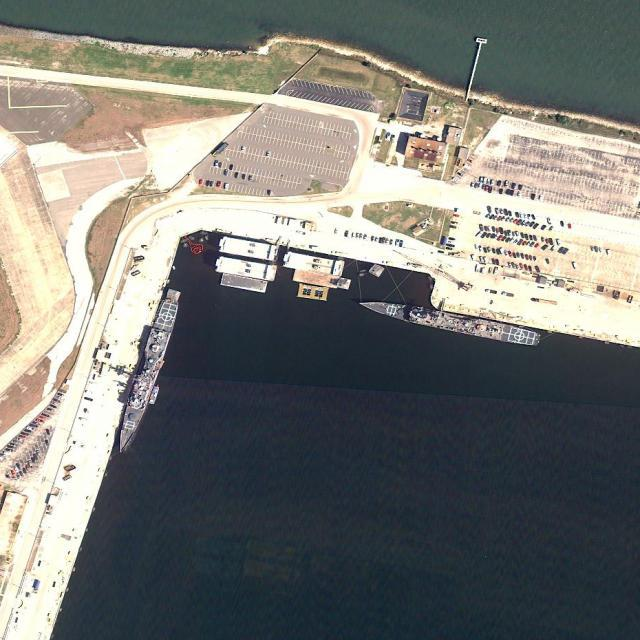Frigate: (110, 295, 182, 455), (359, 295, 542, 348)
Other Ship: (149, 385, 160, 405)
